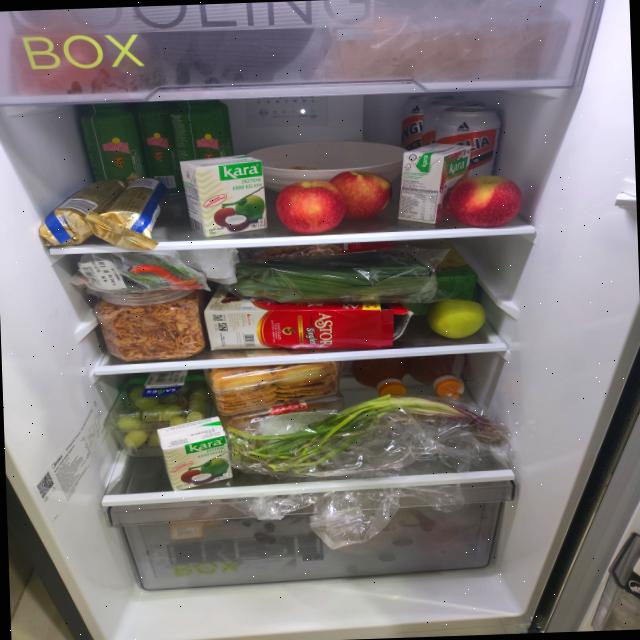apple: (274, 169, 394, 235), (447, 173, 523, 229), (424, 296, 486, 340)
chili: (128, 254, 204, 292)
coconut_milk: (178, 154, 268, 238), (394, 141, 474, 225), (156, 414, 232, 492)
grape: (115, 380, 212, 449)
leafy_greens: (231, 247, 439, 310)
spring_onion: (224, 390, 503, 478)
